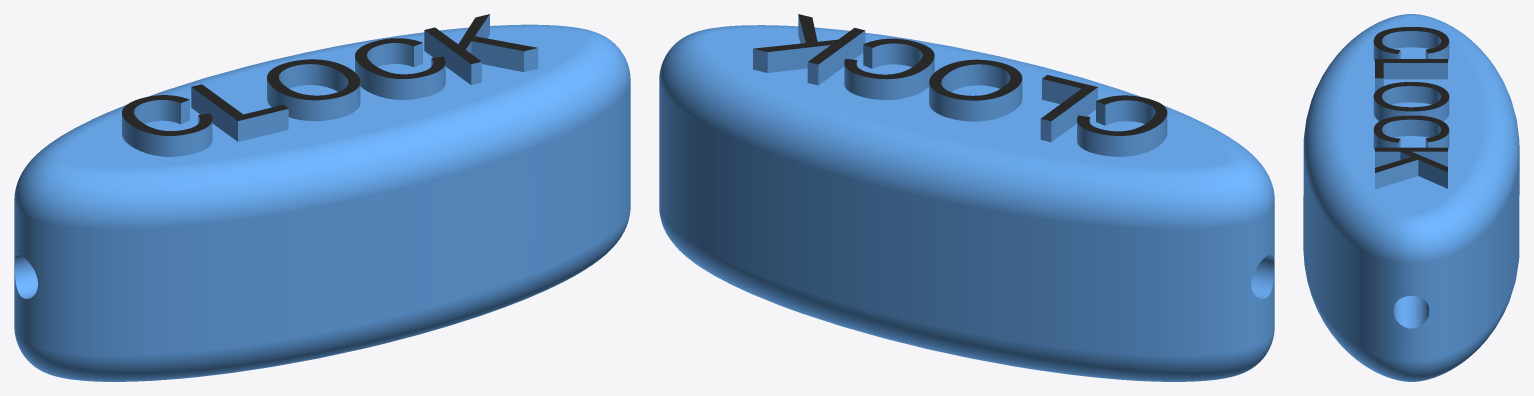
File: Clock.glb
3 renders of one model, left to right at view 1: azimuth 30°, elevation 25°; view 2: azimuth 150°, elevation 25°; view 3: azimuth 270°, elevation 25°, orthographic. The views are drawn at different scales.
Size of the model in its own units: 0.03 by 0.011 by 0.012.
